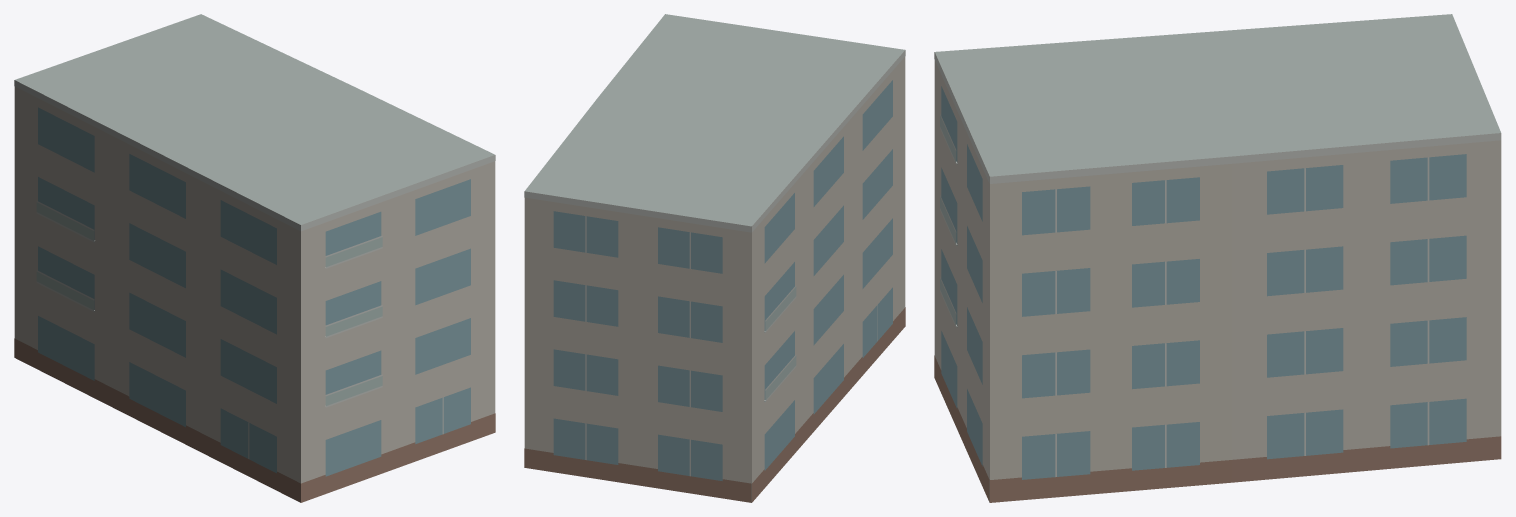
The model's file is survey-upis-32739859.glb.
3 views of the same model, side by side, from view 1: azimuth 30°, elevation 25°; view 2: azimuth 150°, elevation 25°; view 3: azimuth 270°, elevation 25° (orthographic). The views are drawn at different scales.
Visible parts, largest first — view 1: survey-upis-32739859.tmp; view 2: survey-upis-32739859.tmp; view 3: survey-upis-32739859.tmp.
Boxes of the visible parts, bbox=[...] form: survey-upis-32739859.tmp: bbox=[14, 14, 495, 502]; survey-upis-32739859.tmp: bbox=[524, 14, 905, 502]; survey-upis-32739859.tmp: bbox=[934, 14, 1501, 502].
Size of the model in its own units: 11.62 by 10.85 by 17.1.
